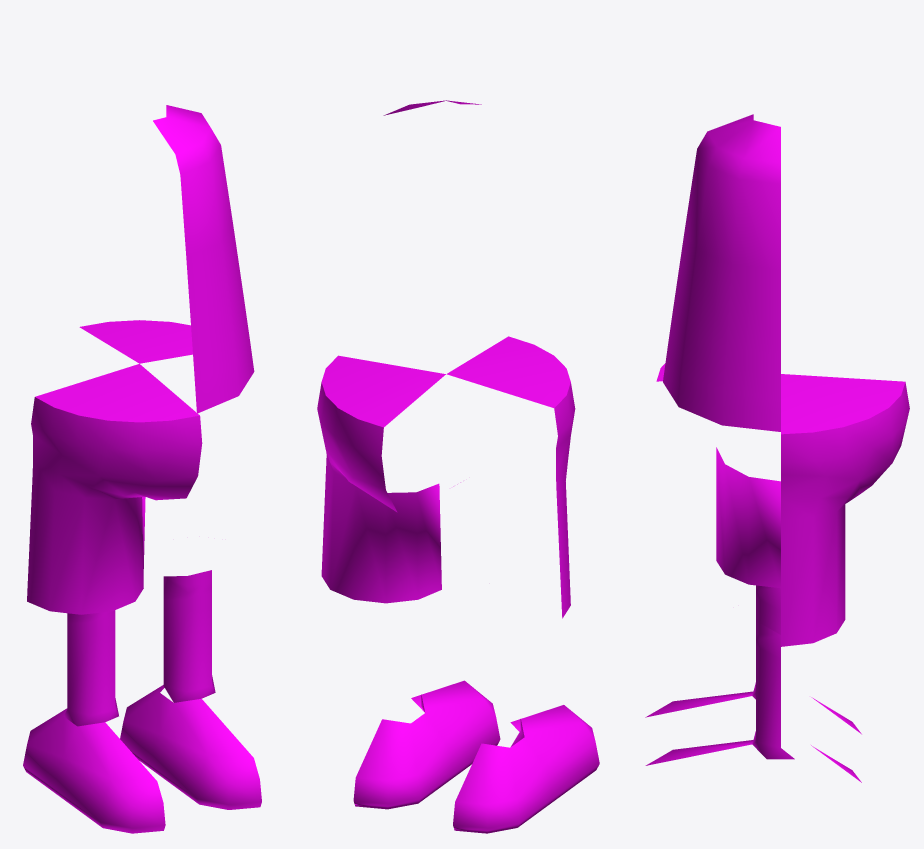
Rendered from ava_bodyC0__ava_bodyC0.glb.
3 renders of one model, left to right at view 1: azimuth 30°, elevation 25°; view 2: azimuth 150°, elevation 25°; view 3: azimuth 270°, elevation 25°, orthographic. The views are drawn at different scales.
Visible parts, largest first — view 1: polygon0; view 2: polygon0; view 3: polygon0.
Part boxes in pixels (x1=…): polygon0: x1=23, y1=105, x2=261, y2=833; polygon0: x1=317, y1=100, x2=599, y2=833; polygon0: x1=645, y1=114, x2=909, y2=782.
Size of the model in its own units: 3.5 by 11 by 3.69.
Materials: 1 (1 with a texture image).
